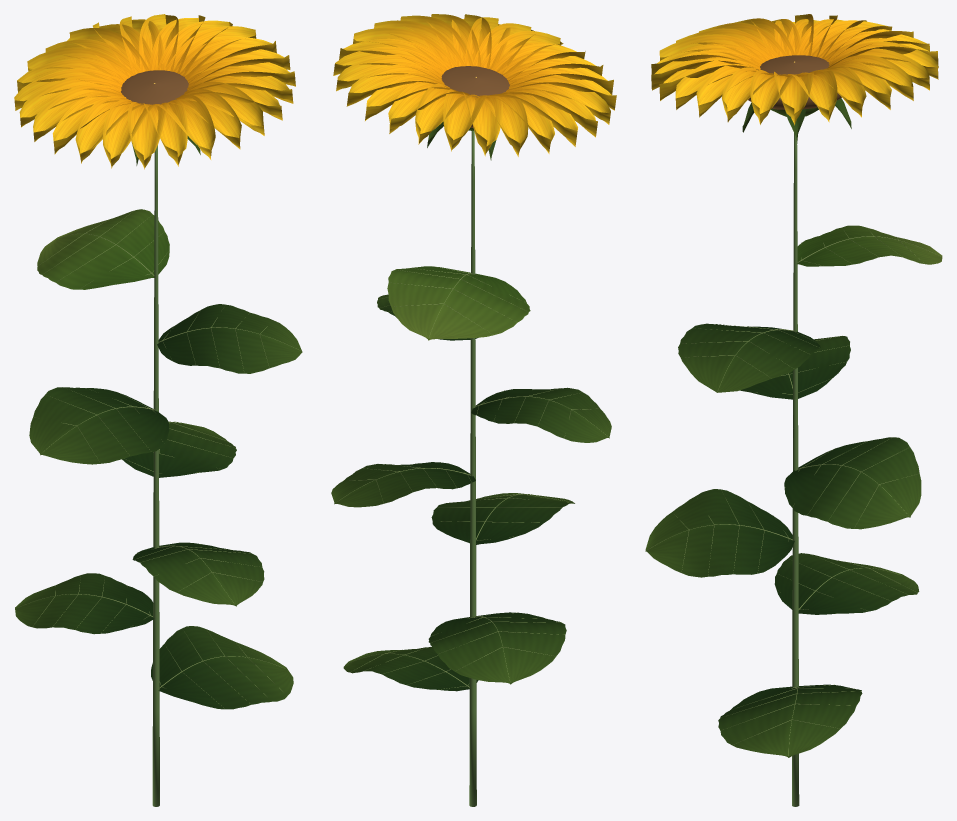
File: sunflower-10.glb
3 renders of one model, left to right at view 1: azimuth 30°, elevation 25°; view 2: azimuth 150°, elevation 25°; view 3: azimuth 270°, elevation 25°, orthographic. The views are drawn at different scales.
Visible parts, largest first — view 1: sunflower_stage_10_leaf_veins.018, sunflower_stage_10_sunflower_petal.018, sunflower_stage_10_young_leaf.018, sunflower_stage_10_stem_fibres.018, sunflower_stage_10_raised_midveins.018, sunflower_stage_10_receptacle.018; view 2: sunflower_stage_10_sunflower_petal.018, sunflower_stage_10_leaf_veins.018, sunflower_stage_10_young_leaf.018, sunflower_stage_10_stem_fibres.018, sunflower_stage_10_raised_midveins.018, sunflower_stage_10_receptacle.018; view 3: sunflower_stage_10_leaf_veins.018, sunflower_stage_10_sunflower_petal.018, sunflower_stage_10_young_leaf.018, sunflower_stage_10_stem_fibres.018, sunflower_stage_10_raised_midveins.018, sunflower_stage_10_receptacle.018.
Part boxes in pixels (left/top/right/bottom): sunflower_stage_10_leaf_veins.018: left=15, top=136, right=302, bottom=709; sunflower_stage_10_sunflower_petal.018: left=14, top=14, right=295, bottom=169; sunflower_stage_10_young_leaf.018: left=37, top=209, right=169, bottom=289; sunflower_stage_10_stem_fibres.018: left=152, top=145, right=159, bottom=806; sunflower_stage_10_raised_midveins.018: left=15, top=210, right=302, bottom=708; sunflower_stage_10_receptacle.018: left=121, top=70, right=188, bottom=104; sunflower_stage_10_sunflower_petal.018: left=333, top=14, right=616, bottom=156; sunflower_stage_10_leaf_veins.018: left=331, top=121, right=611, bottom=691; sunflower_stage_10_young_leaf.018: left=387, top=127, right=530, bottom=340; sunflower_stage_10_stem_fibres.018: left=469, top=131, right=476, bottom=806; sunflower_stage_10_raised_midveins.018: left=336, top=266, right=607, bottom=689; sunflower_stage_10_receptacle.018: left=441, top=66, right=509, bottom=127; sunflower_stage_10_leaf_veins.018: left=645, top=98, right=921, bottom=757; sunflower_stage_10_sunflower_petal.018: left=651, top=14, right=938, bottom=125; sunflower_stage_10_young_leaf.018: left=770, top=107, right=942, bottom=266; sunflower_stage_10_stem_fibres.018: left=792, top=133, right=799, bottom=806; sunflower_stage_10_raised_midveins.018: left=648, top=227, right=940, bottom=755; sunflower_stage_10_receptacle.018: left=748, top=55, right=841, bottom=109.
Size of the model in its own units: 0.3149 by 0.8875 by 0.3125.
Materials: 7 (3 with a texture image).
